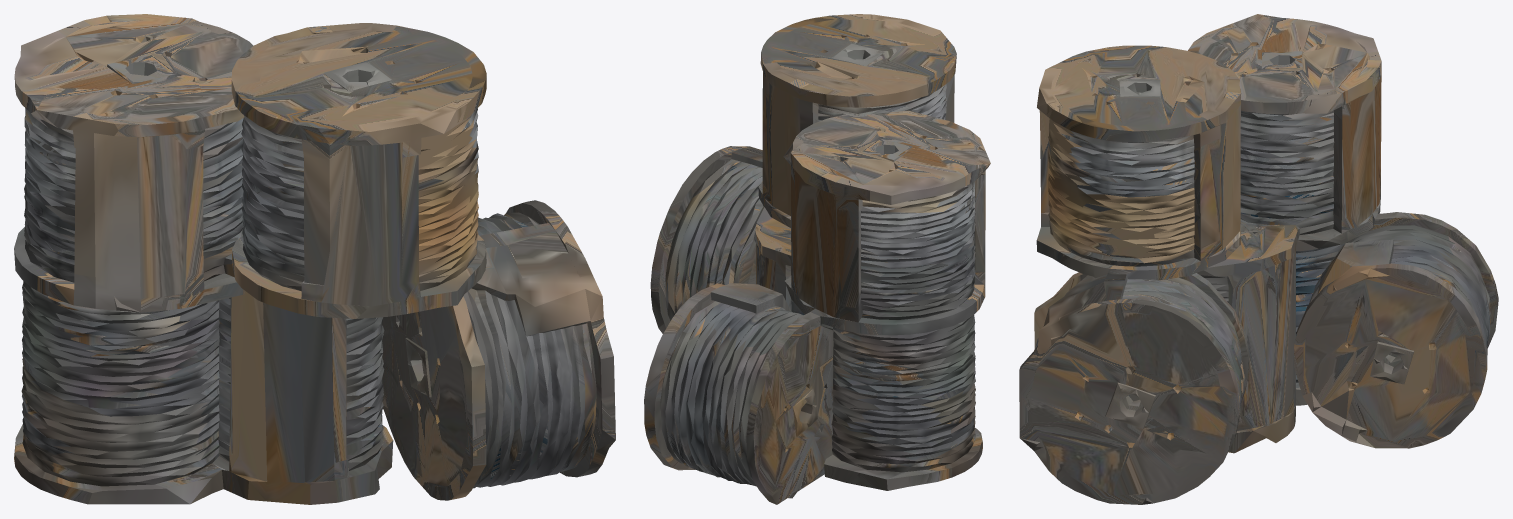
3 renders of one model, left to right at view 1: azimuth 30°, elevation 25°; view 2: azimuth 150°, elevation 25°; view 3: azimuth 270°, elevation 25°, orthographic. The views are drawn at different scales.
Visible parts, largest first — view 1: k08; view 2: k08; view 3: k08.
Boxes of the visible parts, left/top/right/bottom form: k08: left=14, top=14, right=615, bottom=504; k08: left=644, top=14, right=990, bottom=504; k08: left=1019, top=14, right=1498, bottom=504.
Size of the model in its own units: 13.25 by 12 by 15.18.
1 material, 1 textured.
